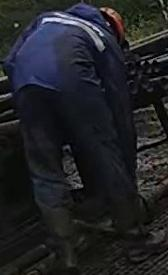helmet: (98, 7, 126, 36)
vest: (9, 4, 124, 86)
